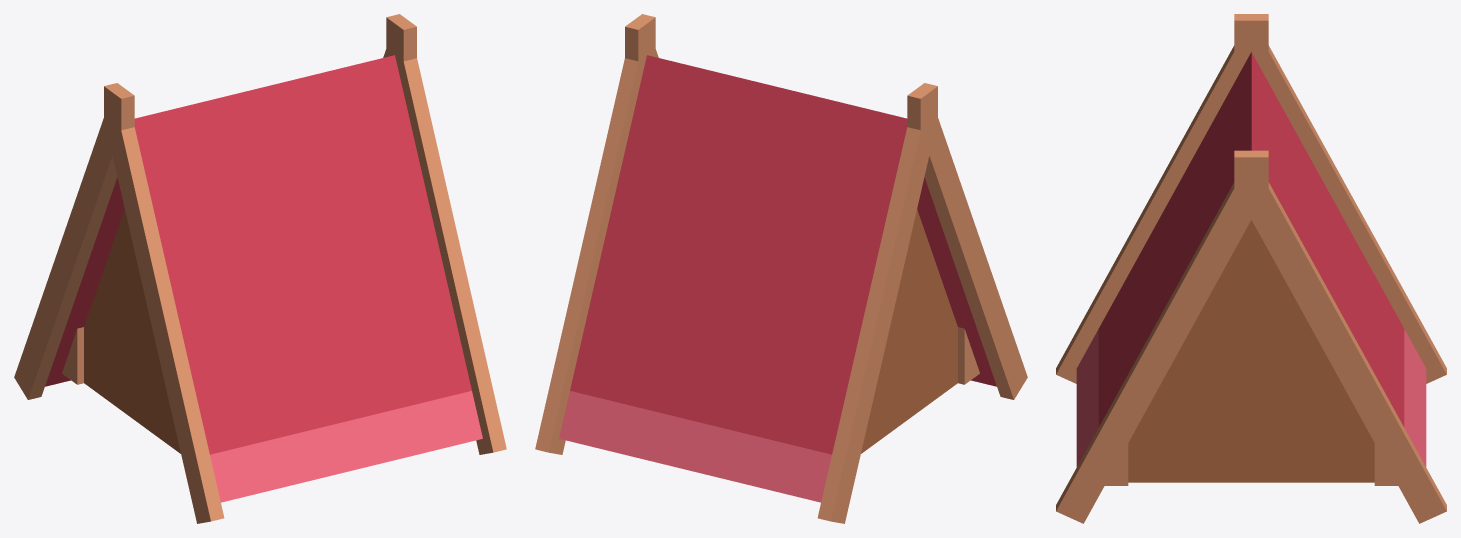
Rendered from roofHighGableDetail.fbx.
3 views of the same model, side by side, from view 1: azimuth 30°, elevation 25°; view 2: azimuth 150°, elevation 25°; view 3: azimuth 270°, elevation 25° (orthographic).
Visible parts, largest first — view 1: roofHighGableDetail; view 2: roofHighGableDetail; view 3: roofHighGableDetail.
Part boxes in pixels (x1,y1,x2,y2): roofHighGableDetail: (14,14,506,523); roofHighGableDetail: (535,14,1027,523); roofHighGableDetail: (1056,14,1446,523).
Bounding box in the file's own units: 11 × 13.13 × 12.68.
